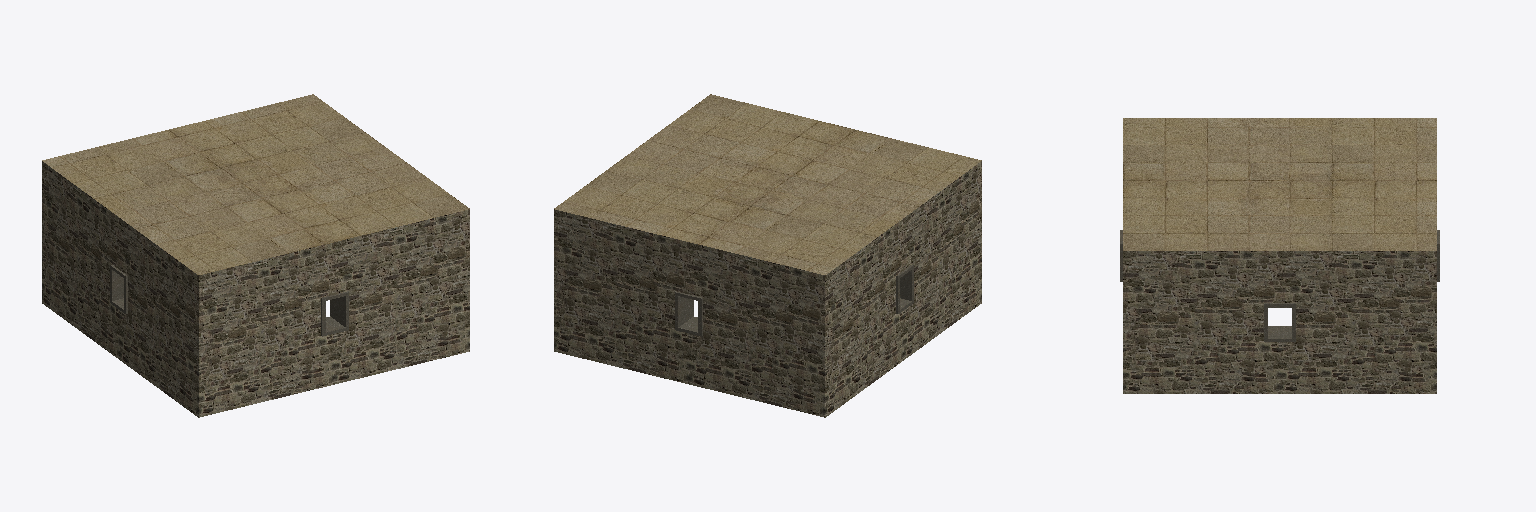
The picture shows the model from 3 angles: view 1: azimuth 30°, elevation 25°; view 2: azimuth 150°, elevation 25°; view 3: azimuth 270°, elevation 25°; orthographic projection.
Parts seen in each view (by area): view 1: Object_castlewall_A.jpg, Object_sidewalk.jpg, Object_windowframe.jpg; view 2: Object_castlewall_A.jpg, Object_sidewalk.jpg, Object_windowframe.jpg; view 3: Object_castlewall_A.jpg, Object_sidewalk.jpg, Object_windowframe.jpg.
Part boxes in pixels (x1,y1,x2,y2): Object_castlewall_A.jpg: (42,161,469,417); Object_sidewalk.jpg: (42,94,469,274); Object_windowframe.jpg: (110,265,348,336); Object_castlewall_A.jpg: (554,161,981,417); Object_sidewalk.jpg: (554,94,981,274); Object_windowframe.jpg: (675,265,913,336); Object_castlewall_A.jpg: (1123,251,1436,393); Object_sidewalk.jpg: (1123,118,1436,250); Object_windowframe.jpg: (1120,230,1439,341).
Size of the model in its own units: 2.5 by 1.23 by 2.5.
4 materials, 3 textured.